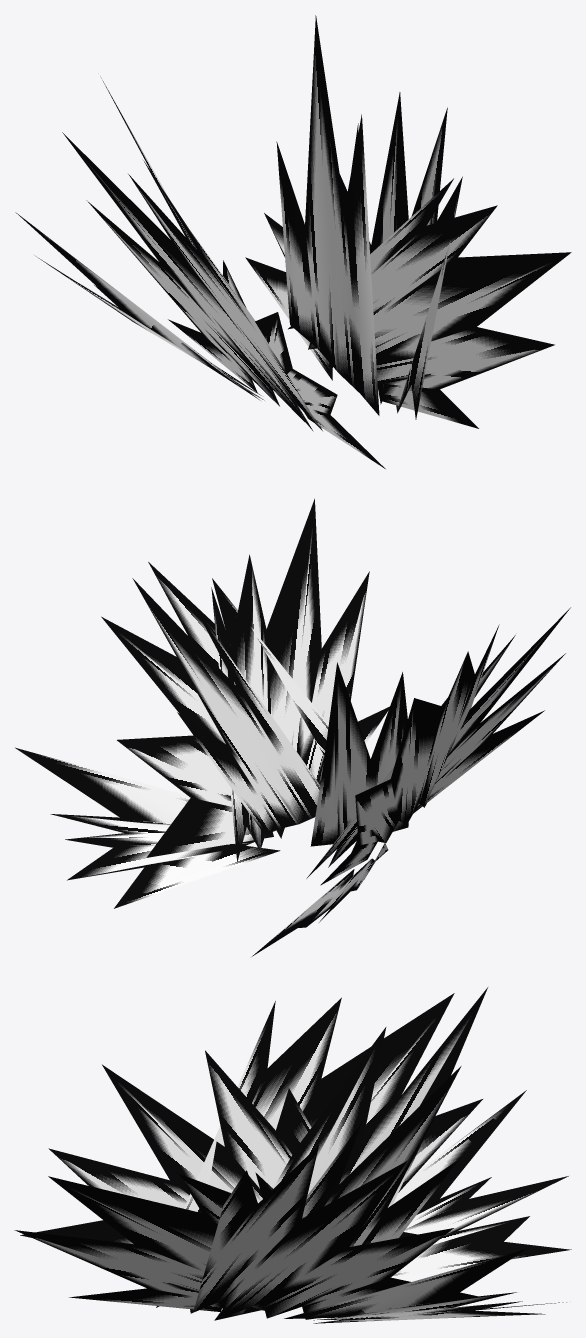
File: EffCommonHorizontalSmokeB.obj
3 renders of one model, top to bottom at view 1: azimuth 30°, elevation 25°; view 2: azimuth 150°, elevation 25°; view 3: azimuth 270°, elevation 25°, orthographic. The views are drawn at different scales.
Visible parts, largest first — view 1: polygon3, polygon2, polygon0, polygon1; view 2: polygon0, polygon3, polygon2, polygon1; view 3: polygon0, polygon3, polygon2, polygon1.
Part boxes in pixels (x1,y1,x2,y2): polygon3: (222,178,571,468); polygon2: (101,15,379,431); polygon0: (62,92,462,430); polygon1: (15,123,358,400); polygon0: (101,562,499,885); polygon3: (211,498,570,878); polygon2: (132,578,408,846); polygon1: (15,747,388,956); polygon0: (156,993,482,1319); polygon3: (14,1050,311,1311); polygon2: (214,987,487,1320); polygon1: (284,1090,571,1323).
Size of the model in its own units: 15.63 by 12.81 by 22.54.
3 materials, 3 textured.
